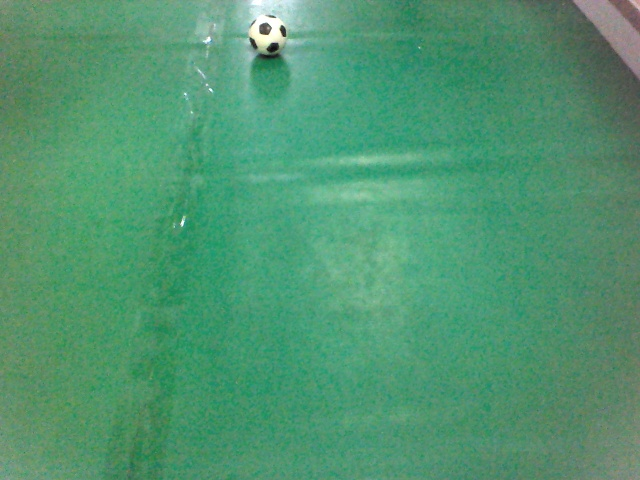ball: (241, 10, 291, 61)
